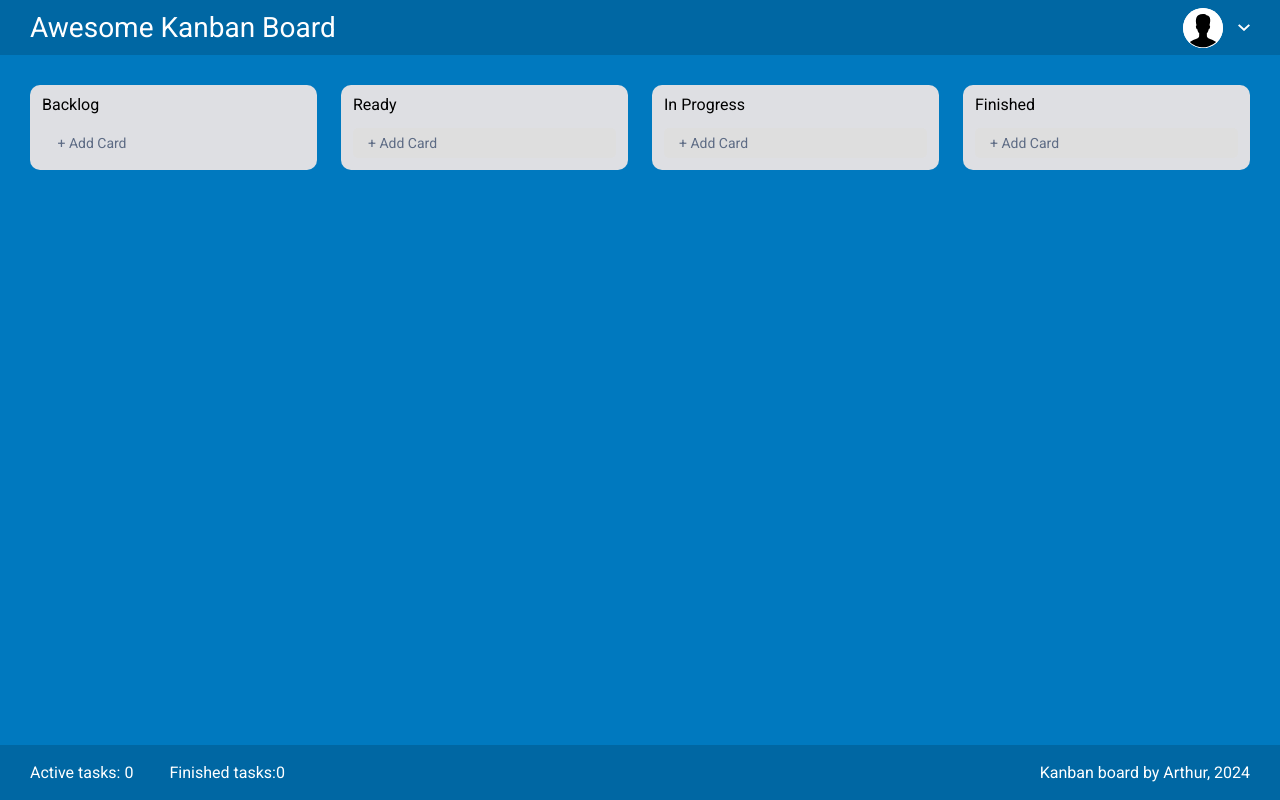
Test case: App › adds a new task
Click the button with test id "addButton" at [92, 143], box [42, 128, 142, 158]
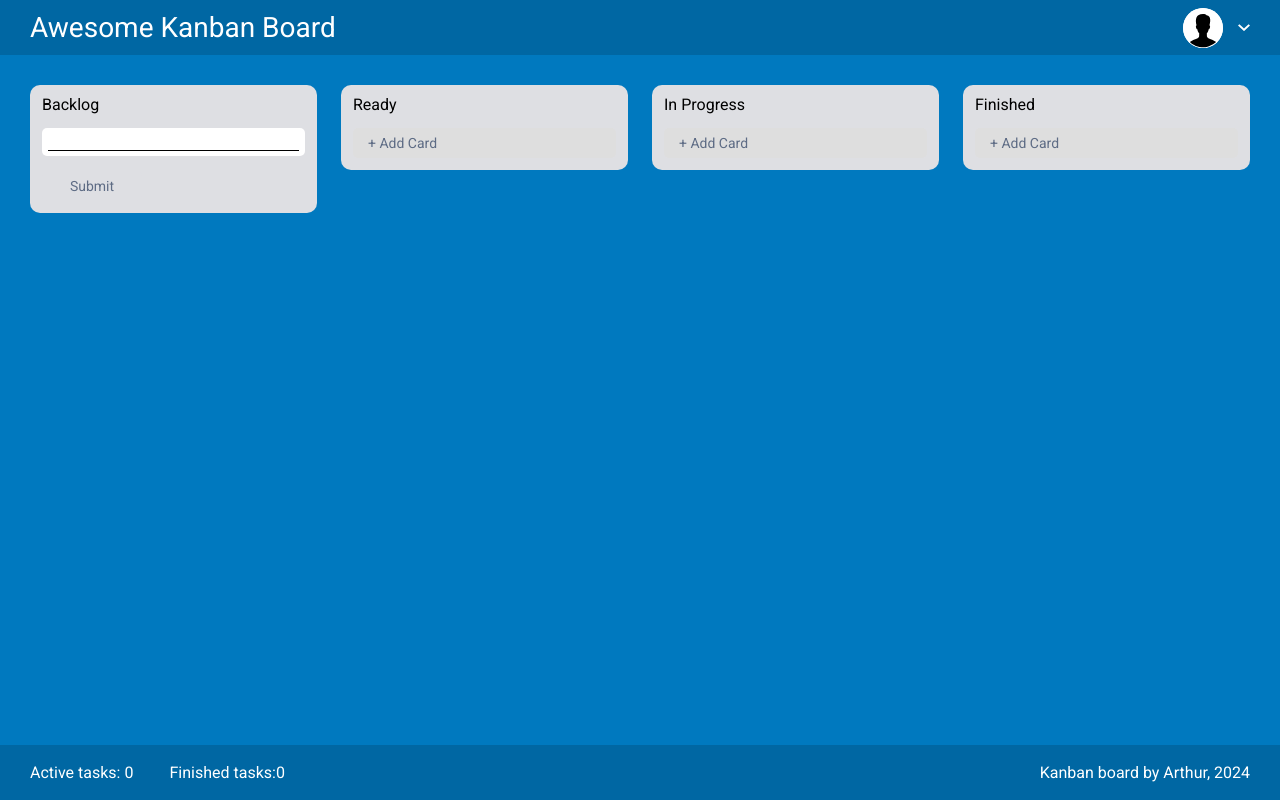
Expected: the field with test id "input" is shown
Type "new task" into the field with test id "input" at [174, 142], box [42, 128, 305, 156]
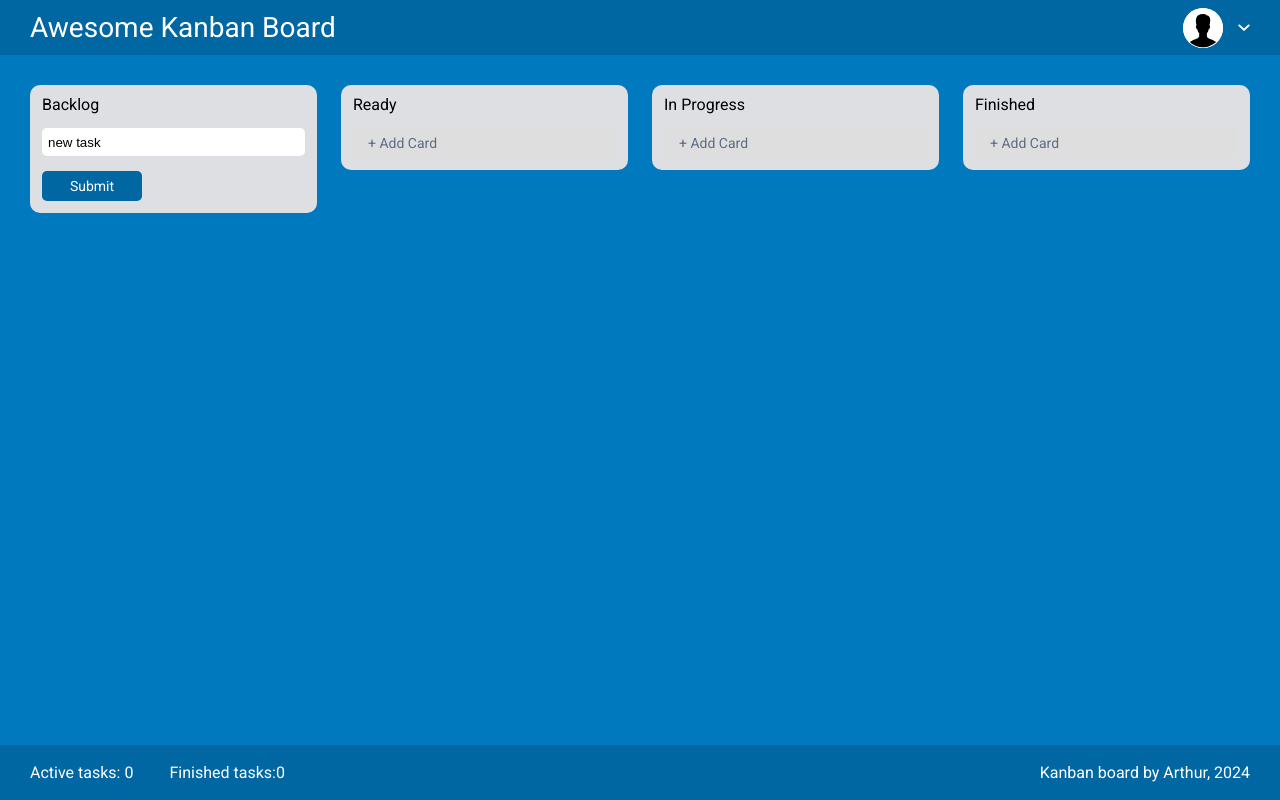
Click the button "Submit" at [92, 186], box [42, 171, 142, 201]
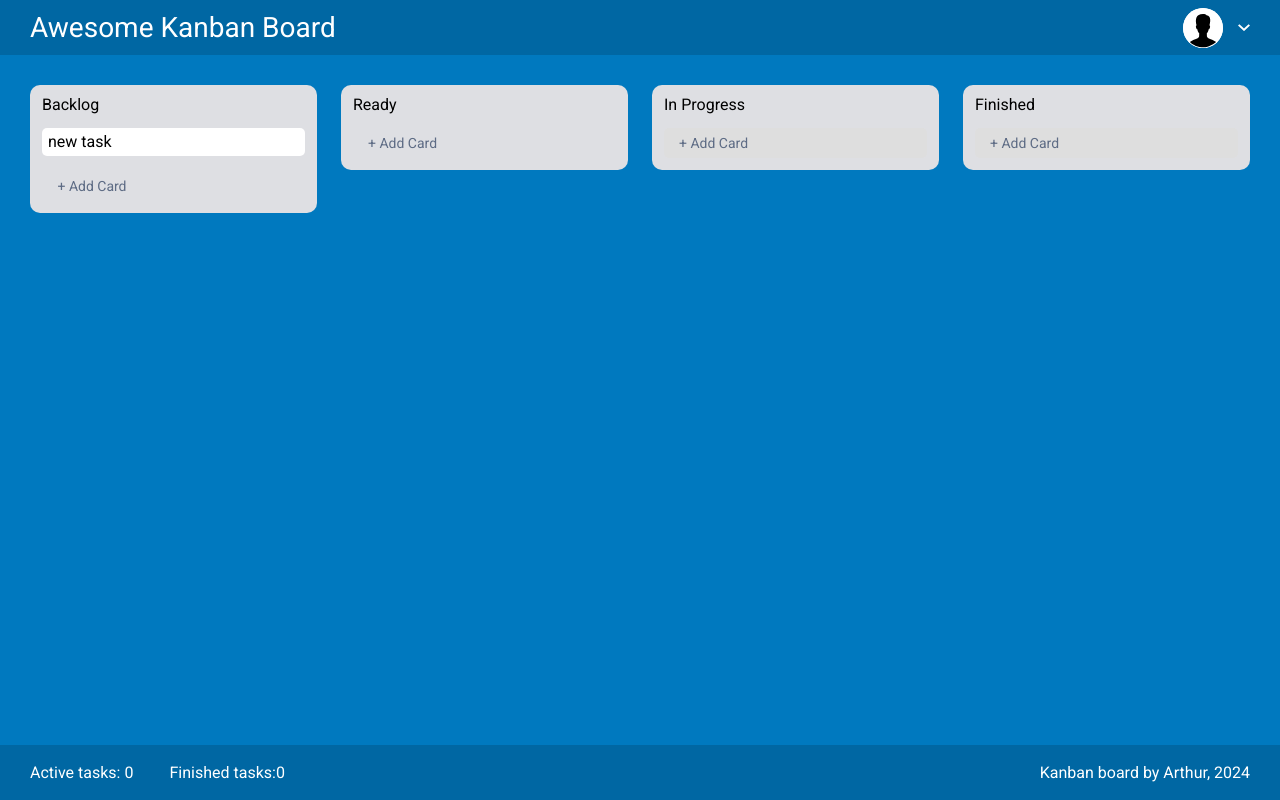
Expected: the text "new task" is shown, [48, 134, 112, 150]
